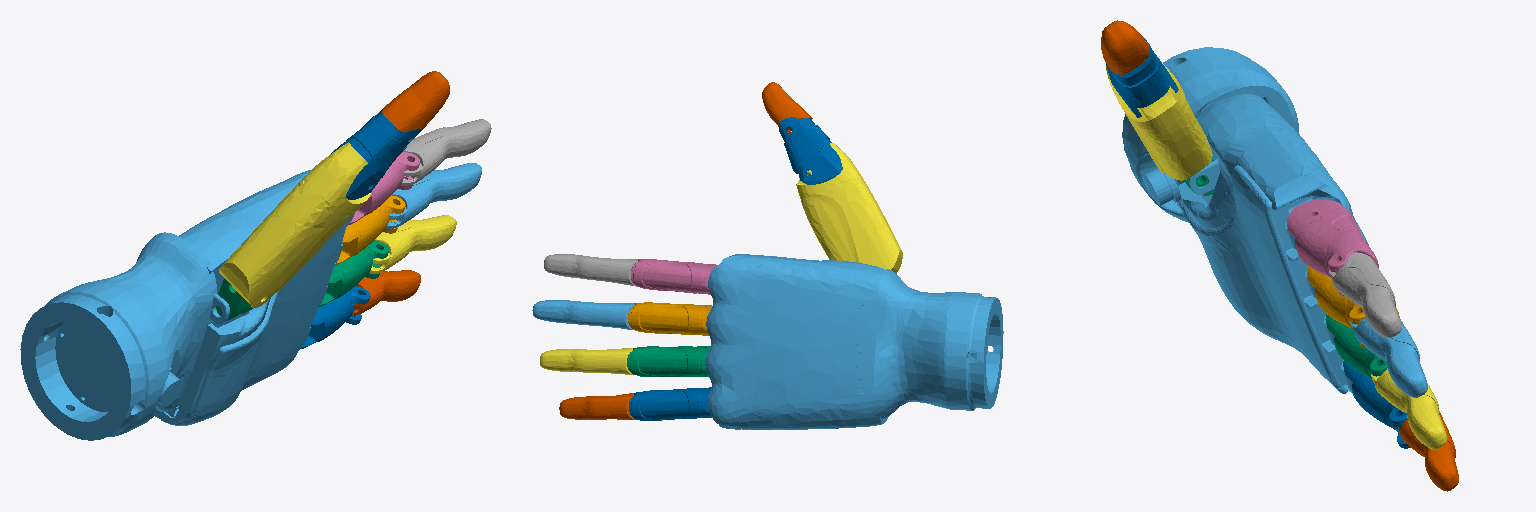
robot.urdf — inspire_hand_left:
<robot name="inspire_hand_left">
  
  <link name="base" />
  <joint name="base_joint" type="fixed">
    <parent link="base" />
    <child link="hand_base_link" />
    <origin xyz="-0.029 0.002 -0.007" rpy="0.01841 -0.35159 1.90841" />
  </joint>
  <link name="hand_base_link">
    <parent link="base" />
    <inertial>
      <origin xyz="-0.0025264 -0.066047 -0.0019598" rpy="0 0 0" />
      <mass value="0.14143" />
      <inertia ixx="0.00012281" ixy="2.1711E-06" ixz="1.7709E-06" iyy="8.3832E-05" iyz="-1.6551E-06" izz="7.6663E-05" />
    </inertial>
    <visual>
      <origin xyz="0 0 0" rpy="0 0 0" />
      <geometry>
        <mesh filename="meshes/visual/left_base_link.obj" />
      </geometry>
    </visual>
    <collision>
      <origin xyz="0 -0.0136 0" rpy="1.57079 0 0" />
      <geometry>
        <cylinder length="0.0278" radius="0.028" />
      </geometry>
    </collision>
    <collision>
      <origin xyz="-0.0032 -0.038 0" rpy="0 0 0" />
      <geometry>
        <box size="0.0391 0.0202 0.0574" />
      </geometry>
    </collision>
    <collision>
      <origin xyz="-0.0032 -0.0682 0" rpy="0 0 0" />
      <geometry>
        <box size="0.0391 0.04 0.0814" />
      </geometry>
    </collision>
    <collision>
      <origin xyz="0 -0.1081 0" rpy="0 0 0" />
      <geometry>
        <box size="0.0322 0.04 0.0814" />
      </geometry>
    </collision>
    <collision>
      <origin xyz="-0.0016 -0.1340 -0.0309" rpy="0 0 0" />
      <geometry>
        <box size="0.0125 0.0111 0.0089" />
      </geometry>
    </collision>
    <collision>
      <origin xyz="-0.0016 -0.1340 -0.0118" rpy="0 0 0" />
      <geometry>
        <box size="0.0125 0.0111 0.0089" />
      </geometry>
    </collision>
    <collision>
      <origin xyz="-0.0016 -0.1340 0.0070" rpy="0 0 0" />
      <geometry>
        <box size="0.0125 0.0111 0.0089" />
      </geometry>
    </collision>
    <collision>
      <origin xyz="-0.0016 -0.1340 0.0262" rpy="0 0 0" />
      <geometry>
        <box size="0.0125 0.0111 0.0089" />
      </geometry>
    </collision>
  </link>
  <link name="thumb_proximal_base">
    <inertial>
      <origin xyz="0.0048817 0.0009382 -0.00722" rpy="0 0 0" />
      <mass value="0.0018869" />
      <inertia ixx="5.816E-08" ixy="-1.4539E-08" ixz="-4.491E-09" iyy="7.9161E-08" iyz="-1.8727E-09" izz="6.7433E-08" />
    </inertial>
    <visual>
      <origin xyz="0 0 0" rpy="0 0 0" />
      <geometry>
        <mesh filename="meshes/visual/left_thumb_proximal_base.obj" />
      </geometry>
    </visual>
    <collision>
      <origin xyz="0 0 0" rpy="0 0 0" />
      <geometry>
        <mesh filename="meshes/collision/left_thumb_proximal_base.obj" />
      </geometry>
    </collision>
  </link>
  <joint name="thumb_proximal_yaw_joint" type="revolute">
    <origin xyz="-0.01696 -0.0691 0.02045" rpy="1.5708 -1.5708 0" />
    <parent link="hand_base_link" />
    <child link="thumb_proximal_base" />
    <axis xyz="0 0 1" />
    <limit lower="0" upper="1.308" effort="1" velocity="0.5" />
  </joint>
  <link name="thumb_proximal">
    <inertial>
      <origin xyz="0.021932 -0.012785 -0.0080386" rpy="0 0 0" />
      <mass value="0.0066075" />
      <inertia ixx="1.5686E-06" ixy="7.8296E-07" ixz="8.9143E-10" iyy="1.7353E-06" iyz="1.0191E-09" izz="2.786E-06" />
    </inertial>
    <visual>
      <origin xyz="0 0 0" rpy="0 0 0" />
      <geometry>
        <mesh filename="meshes/visual/left_thumb_proximal.obj" />
      </geometry>
    </visual>
    <collision>
      <origin xyz="0 0 0" rpy="0 0 0" />
      <geometry>
        <mesh filename="meshes/collision/left_thumb_proximal.obj" />
      </geometry>
    </collision>
  </link>
  <joint name="thumb_proximal_pitch_joint" type="revolute">
    <origin xyz="0.0099867 0.0098242 -0.0089" rpy="-1.5708 0 0.16939" />
    <parent link="thumb_proximal_base" />
    <child link="thumb_proximal" />
    <axis xyz="0 0 -1" />
    <limit lower="0" upper="0.6" effort="1" velocity="0.5" />
  </joint>
  <link name="thumb_intermediate">
    <inertial>
      <origin xyz="0.0095544 0.0016282 -0.0071997" rpy="0 0 0" />
      <mass value="0.0037847" />
      <inertia ixx="3.6981E-07" ixy="9.8581E-08" ixz="-4.7469E-12" iyy="3.2394E-07" iyz="-1.0939E-12" izz="4.6531E-07" />
    </inertial>
    <visual>
      <origin xyz="0 0 0" rpy="0 0 0" />
      <geometry>
        <mesh filename="meshes/visual/left_thumb_intermediate.obj" />
      </geometry>
    </visual>
    <collision>
      <origin xyz="0 0 0" rpy="0 0 0" />
      <geometry>
        <mesh filename="meshes/collision/left_thumb_intermediate.obj" />
      </geometry>
    </collision>
  </link>
  <joint name="thumb_intermediate_joint" type="revolute">
    <origin xyz="0.04407 -0.034553 -0.0008" rpy="0 0 0" />
    <parent link="thumb_proximal" />
    <child link="thumb_intermediate" />
    <axis xyz="0 0 -1" />
    <limit lower="0" upper="0.8" effort="1" velocity="0.5" />
    <mimic joint="thumb_proximal_pitch_joint" multiplier="1.334" offset="0" />
  </joint>
  <link name="thumb_distal">
    <inertial>
      <origin xyz="0.0092888 -0.0049529 -0.0060033" rpy="0 0 0" />
      <mass value="0.0033441" />
      <inertia ixx="1.3632E-07" ixy="5.6788E-08" ixz="-9.2764E-11" iyy="1.4052E-07" iyz="1.2283E-10" izz="2.0026E-07" />
    </inertial>
    <visual>
      <origin xyz="0 0 0" rpy="0 0 0" />
      <geometry>
        <mesh filename="meshes/visual/left_thumb_distal.obj" />
      </geometry>
    </visual>
    <collision>
      <origin xyz="0 0 0" rpy="0 0 0" />
      <geometry>
        <mesh filename="meshes/collision/left_thumb_distal.obj" scale="1 1 1" />
      </geometry>
    </collision>
  </link>
  <joint name="thumb_distal_joint" type="revolute">
    <origin xyz="0.020248 -0.010156 -0.0012" rpy="0 0 0" />
    <parent link="thumb_intermediate" />
    <child link="thumb_distal" />
    <axis xyz="0 0 -1" />
    <limit lower="0" upper="0.4" effort="1" velocity="0.5" />
    <mimic joint="thumb_proximal_pitch_joint" multiplier="0.667" offset="0" />
  </joint>
  <link name="index_proximal">
    <inertial>
      <origin xyz="0.0012259 -0.011942 -0.0060001" rpy="0 0 0" />
      <mass value="0.0042403" />
      <inertia ixx="6.6232E-07" ixy="1.5775E-08" ixz="1.8515E-12" iyy="2.1146E-07" iyz="5.0828E-12" izz="6.9398E-07" />
    </inertial>
    <visual>
      <origin xyz="0 0 0" rpy="0 0 0" />
      <geometry>
        <mesh filename="meshes/visual/left_index_proximal.obj" />
      </geometry>
    </visual>
    <collision>
      <origin xyz="0 0 0" rpy="0 0 0" />
      <geometry>
        <mesh filename="meshes/collision/left_index_proximal.obj" />
      </geometry>
    </collision>
  </link>
  <joint name="index_proximal_joint" type="revolute">
    <origin xyz="0.00028533 -0.13653 0.032268" rpy="-0.034907 0 0" />
    <parent link="hand_base_link" />
    <child link="index_proximal" />
    <axis xyz="0 0 -1" />
    <limit lower="0" upper="1.47" effort="1" velocity="0.5" />
  </joint>
  <link name="index_intermediate">
    <inertial>
      <origin xyz="0.0019697 -0.019589 -0.005" rpy="0 0 0" />
      <mass value="0.0045683" />
      <inertia ixx="7.6111E-07" ixy="-8.7637E-08" ixz="-3.7751E-13" iyy="9.6076E-08" iyz="-9.9444E-13" izz="7.8179E-07" />
    </inertial>
    <visual>
      <origin xyz="0 0 0" rpy="0 0 0" />
      <geometry>
        <mesh filename="meshes/visual/left_index_intermediate.obj" />
      </geometry>
    </visual>
    <collision>
      <origin xyz="0 0 0" rpy="0 0 0" />
      <geometry>
        <mesh filename="meshes/collision/left_index_intermediate.obj" />
      </geometry>
    </collision>
  </link>
  <joint name="index_intermediate_joint" type="revolute">
    <origin xyz="-0.0026138 -0.032026 -0.001" rpy="0 0 0" />
    <parent link="index_proximal" />
    <child link="index_intermediate" />
    <axis xyz="0 0 -1" />
    <limit lower="-0.04545" upper="1.56" effort="1" velocity="0.5" />
    <mimic joint="index_proximal_joint" multiplier="1.06399" offset="-0.04545" />
  </joint>
  <link name="middle_proximal">
    <inertial>
      <origin xyz="0.001297 -0.011934 -0.0060001" rpy="0 0 0" />
      <mass value="0.0042403" />
      <inertia ixx="6.6211E-07" ixy="1.8461E-08" ixz="1.8002E-12" iyy="2.1167E-07" iyz="6.6808E-12" izz="6.9397E-07" />
    </inertial>
    <visual>
      <origin xyz="0 0 0" rpy="0 0 0" />
      <geometry>
        <mesh filename="meshes/visual/left_index_proximal.obj" />
      </geometry>
    </visual>
    <collision>
      <origin xyz="0 0 0" rpy="0 0 0" />
      <geometry>
        <mesh filename="meshes/collision/left_index_proximal.obj" />
      </geometry>
    </collision>
  </link>
  <joint name="middle_proximal_joint" type="revolute">
    <origin xyz="0.00028533 -0.1371 0.01295" rpy="0 0 0" />
    <parent link="hand_base_link" />
    <child link="middle_proximal" />
    <axis xyz="0 0 -1" />
    <limit lower="0" upper="1.47" effort="1" velocity="0.5" />
  </joint>
  <link name="middle_intermediate">
    <inertial>
      <origin xyz="0.001921 -0.020796 -0.005" rpy="0 0 0" />
      <mass value="0.0050396" />
      <inertia ixx="9.5822E-07" ixy="-1.1425E-07" ixz="-2.4791E-12" iyy="1.0646E-07" iyz="-5.9173E-12" izz="9.8384E-07" />
    </inertial>
    <visual>
      <origin xyz="0 0 0" rpy="0 0 0" />
      <geometry>
        <mesh filename="meshes/visual/left_middle_intermediate.obj" />
      </geometry>
    </visual>
    <collision>
      <origin xyz="0 0 0" rpy="0 0 0" />
      <geometry>
        <mesh filename="meshes/collision/left_middle_intermediate.obj" />
      </geometry>
    </collision>
  </link>
  <joint name="middle_intermediate_joint" type="revolute">
    <origin xyz="-0.0024229 -0.032041 -0.001" rpy="0 0 0" />
    <parent link="middle_proximal" />
    <child link="middle_intermediate" />
    <axis xyz="0 0 -1" />
    <limit lower="-0.04545" upper="1.56" effort="1" velocity="0.5" />
    <mimic joint="middle_proximal_joint" multiplier="1.06399" offset="-0.04545" />
  </joint>
  <link name="ring_proximal">
    <inertial>
      <origin xyz="0.001297 -0.011934 -0.0060002" rpy="0 0 0" />
      <mass value="0.0042403" />
      <inertia ixx="6.6211E-07" ixy="1.8461E-08" ixz="1.5793E-12" iyy="2.1167E-07" iyz="6.6868E-12" izz="6.9397E-07" />
    </inertial>
    <visual>
      <origin xyz="0 0 0" rpy="0 0 0" />
      <geometry>
        <mesh filename="meshes/visual/left_index_proximal.obj" />
      </geometry>
    </visual>
    <collision>
      <origin xyz="0 0 0" rpy="0 0 0" />
      <geometry>
        <mesh filename="meshes/collision/left_index_proximal.obj" />
      </geometry>
    </collision>
  </link>
  <joint name="ring_proximal_joint" type="revolute">
    <origin xyz="0.00028533 -0.13691 -0.0062872" rpy="0.05236 0 0" />
    <parent link="hand_base_link" />
    <child link="ring_proximal" />
    <axis xyz="0 0 -1" />
    <limit lower="0" upper="1.47" effort="1" velocity="0.5" />
  </joint>
  <link name="ring_intermediate">
    <inertial>
      <origin xyz="0.0021753 -0.019567 -0.005" rpy="0 0 0" />
      <mass value="0.0045683" />
      <inertia ixx="7.6286E-07" ixy="-8.0635E-08" ixz="-6.1562E-13" iyy="9.431E-08" iyz="-5.8619E-13" izz="7.8177E-07" />
    </inertial>
    <visual>
      <origin xyz="0 0 0" rpy="0 0 0" />
      <geometry>
        <mesh filename="meshes/visual/left_index_intermediate.obj" />
      </geometry>
    </visual>
    <collision>
      <origin xyz="0 0 0" rpy="0 0 0" />
      <geometry>
        <mesh filename="meshes/collision/left_index_intermediate.obj" />
      </geometry>
    </collision>
  </link>
  <joint name="ring_intermediate_joint" type="revolute">
    <origin xyz="-0.0024229 -0.032041 -0.001" rpy="0 0 0" />
    <parent link="ring_proximal" />
    <child link="ring_intermediate" />
    <axis xyz="0 0 -1" />
    <limit lower="-0.04545" upper="1.56" effort="1" velocity="0.5" />
    <mimic joint="ring_proximal_joint" multiplier="1.06399" offset="-0.04545" />
  </joint>
  <link name="pinky_proximal">
    <inertial>
      <origin xyz="0.001297 -0.011934 -0.0060001" rpy="0 0 0" />
      <mass value="0.0042403" />
      <inertia ixx="6.6211E-07" ixy="1.8461E-08" ixz="1.6907E-12" iyy="2.1167E-07" iyz="6.9334E-12" izz="6.9397E-07" />
    </inertial>
    <visual>
      <origin xyz="0 0 0" rpy="0 0 0" />
      <geometry>
        <mesh filename="meshes/visual/left_index_proximal.obj" />
      </geometry>
    </visual>
    <collision>
      <origin xyz="0 0 0" rpy="0 0 0" />
      <geometry>
        <mesh filename="meshes/collision/left_index_proximal.obj" />
      </geometry>
    </collision>
  </link>
  <joint name="pinky_proximal_joint" type="revolute">
    <origin xyz="0.00028533 -0.13571 -0.025488" rpy="0.10472 0 0" />
    <parent link="hand_base_link" />
    <child link="pinky_proximal" />
    <axis xyz="0 0 -1" />
    <limit lower="0" upper="1.47" effort="1" velocity="0.5" />
  </joint>
  <link name="pinky_intermediate">
    <inertial>
      <origin xyz="0.0024748 -0.016203 -0.0050031" rpy="0 0 0" />
      <mass value="0.0035996" />
      <inertia ixx="4.3913E-07" ixy="-4.1418E-08" ixz="3.7168E-11" iyy="7.0247E-08" iyz="-5.8613E-11" izz="4.4867E-07" />
    </inertial>
    <visual>
      <origin xyz="0 0 0" rpy="0 0 0" />
      <geometry>
        <mesh filename="meshes/visual/left_pinky_intermediate.obj" />
      </geometry>
    </visual>
    <collision>
      <origin xyz="0 0 0" rpy="0 0 0" />
      <geometry>
        <mesh filename="meshes/collision/left_pinky_intermediate.obj" />
      </geometry>
    </collision>
  </link>
  <joint name="pinky_intermediate_joint" type="revolute">
    <origin xyz="-0.0024229 -0.032041 -0.001" rpy="0 0 0" />
    <parent link="pinky_proximal" />
    <child link="pinky_intermediate" />
    <axis xyz="0 0 -1" />
    <limit lower="-0.04545" upper="1.56" effort="1" velocity="0.5" />
    <mimic joint="pinky_proximal_joint" multiplier="1.06399" offset="-0.04545" />
  </joint>

  <link name="thumb_tip" />
  <joint name="thumb_tip_joint" type="fixed">
    <origin xyz="0.0202 -0.0140 -0.006" rpy="0 0 0" />
    <parent link="thumb_distal" />
    <child link="thumb_tip" />
  </joint>
  <link name="index_tip" />
  <joint name="index_tip_joint" type="fixed">
    <origin xyz="-0.0008 -0.045 -0.005" rpy="0 0 0" />
    <parent link="index_intermediate" />
    <child link="index_tip" />
  </joint>
  <link name="middle_tip" />
  <joint name="middle_tip_joint" type="fixed">
    <origin xyz="-0.001 -0.048 -0.005" rpy="0 0 0" />
    <parent link="middle_intermediate" />
    <child link="middle_tip" />
  </joint>
  <link name="ring_tip" />
  <joint name="ring_tip_joint" type="fixed">
    <origin xyz="-0.0008 -0.045 -0.005" rpy="0 0 0" />
    <parent link="ring_intermediate" />
    <child link="ring_tip" />
  </joint>
  <link name="pinky_tip" />
  <joint name="pinky_tip_joint" type="fixed">
    <origin xyz="-0.0008 -0.037 -0.005" rpy="0 0 0" />
    <parent link="pinky_intermediate" />
    <child link="pinky_tip" />
  </joint>
</robot>

--- What the picture shows (computed from the rendered views, not written in the file) ---
The picture shows the robot from 3 angles, left to right: view 1: azimuth 30°, elevation 25°; view 2: azimuth 150°, elevation 25°; view 3: azimuth 270°, elevation 25°; orthographic projection.
Model inspire_hand_left with 19 links and 18 joints (12 revolute, 6 fixed), rooted at base, posed all joints at 0.
Visible links, largest first — view 1: hand_base_link, thumb_proximal, thumb_intermediate, index_intermediate, middle_intermediate, thumb_distal, ring_intermediate, middle_proximal, ring_proximal, pinky_proximal, pinky_intermediate, index_proximal (+1 smaller); view 2: hand_base_link, thumb_proximal, thumb_intermediate, middle_proximal, index_proximal, pinky_proximal, ring_proximal, middle_intermediate, index_intermediate, ring_intermediate, pinky_intermediate, thumb_distal; view 3: hand_base_link, thumb_proximal, index_proximal, index_intermediate, middle_intermediate, ring_intermediate, thumb_intermediate, thumb_distal, pinky_intermediate, pinky_proximal, ring_proximal, middle_proximal.
Boxes of the visible links, left/top/right/bottom form: hand_base_link: left=20, top=170, right=354, bottom=440; thumb_proximal: left=219, top=142, right=370, bottom=307; thumb_intermediate: left=331, top=109, right=421, bottom=199; index_intermediate: left=400, top=119, right=491, bottom=185; middle_intermediate: left=385, top=163, right=481, bottom=228; thumb_distal: left=382, top=71, right=449, bottom=131; ring_intermediate: left=369, top=215, right=456, bottom=273; middle_proximal: left=334, top=195, right=405, bottom=265; ring_proximal: left=319, top=240, right=388, bottom=306; pinky_proximal: left=300, top=286, right=370, bottom=348; pinky_intermediate: left=352, top=270, right=420, bottom=315; index_proximal: left=347, top=151, right=419, bottom=225; hand_base_link: left=705, top=254, right=1003, bottom=429; thumb_proximal: left=796, top=143, right=902, bottom=273; thumb_intermediate: left=779, top=118, right=842, bottom=184; middle_proximal: left=628, top=302, right=711, bottom=335; index_proximal: left=631, top=259, right=717, bottom=294; pinky_proximal: left=629, top=387, right=711, bottom=420; ring_proximal: left=627, top=346, right=710, bottom=376; middle_intermediate: left=532, top=300, right=634, bottom=329; index_intermediate: left=544, top=254, right=637, bottom=285; ring_intermediate: left=540, top=348, right=632, bottom=374; pinky_intermediate: left=559, top=393, right=635, bottom=419; thumb_distal: left=762, top=82, right=812, bottom=132; hand_base_link: left=1122, top=47, right=1368, bottom=393; thumb_proximal: left=1106, top=63, right=1212, bottom=180; index_proximal: left=1287, top=199, right=1378, bottom=295; index_intermediate: left=1329, top=252, right=1401, bottom=337; middle_intermediate: left=1350, top=317, right=1427, bottom=397; ring_intermediate: left=1371, top=368, right=1446, bottom=449; thumb_intermediate: left=1106, top=38, right=1178, bottom=117; thumb_distal: left=1101, top=20, right=1149, bottom=74; pinky_intermediate: left=1398, top=413, right=1458, bottom=491; pinky_proximal: left=1343, top=361, right=1410, bottom=448; ring_proximal: left=1325, top=314, right=1387, bottom=398; middle_proximal: left=1307, top=266, right=1399, bottom=347.
Bounding box of the posed robot: 0.2156 × 0.1142 × 0.1418 m (x, y, z).
13 mesh visuals loaded from 9 distinct referenced files (9 OBJ).
